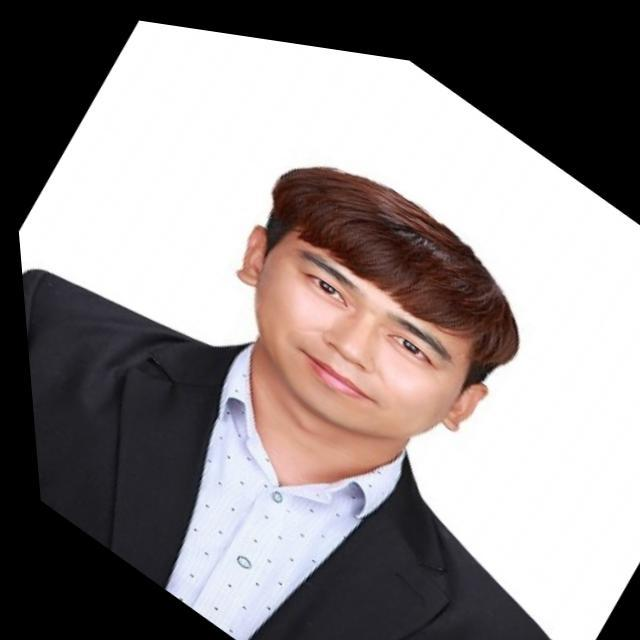Nonhelmet: (231, 159, 524, 447)
